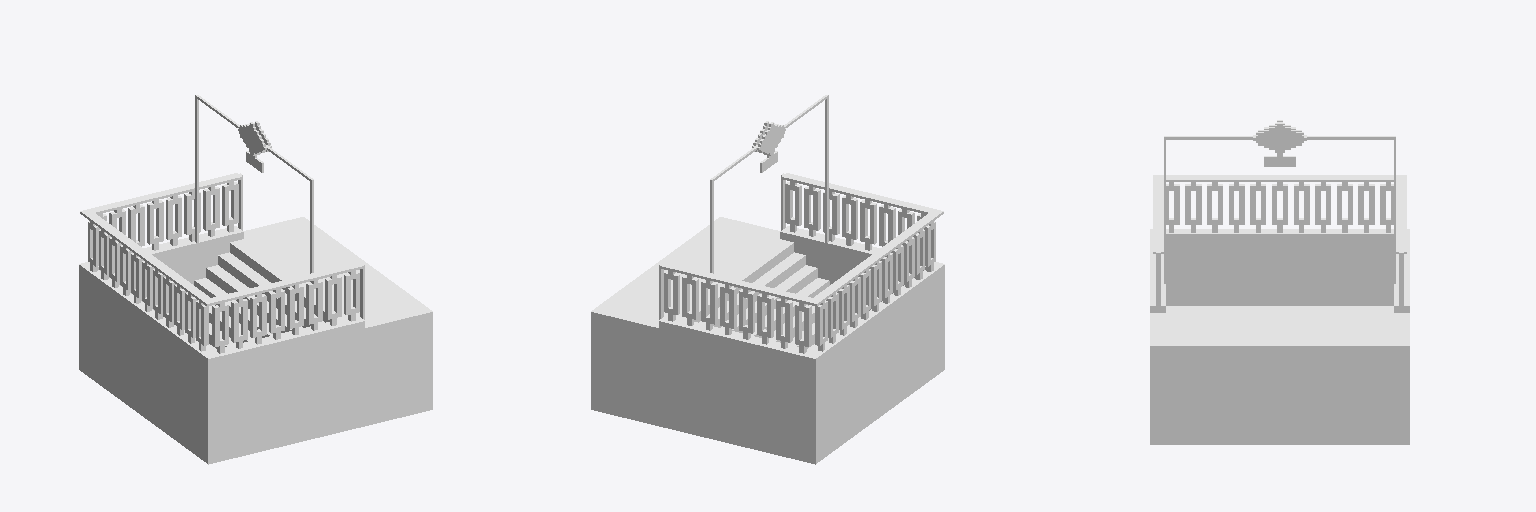
The model's file is entrada metro.obj.
3 views of the same model, side by side, from view 1: azimuth 30°, elevation 25°; view 2: azimuth 150°, elevation 25°; view 3: azimuth 270°, elevation 25° (orthographic).
Parts seen in each view (by area): view 1: object 1; view 2: object 1; view 3: object 1.
Boxes of the visible parts, x1,y1,x2,y2 form: object 1: [79, 95, 432, 464]; object 1: [591, 95, 944, 464]; object 1: [1150, 120, 1409, 444].
Bounding box in the file's own units: 9.6 × 10.9 × 9.6.